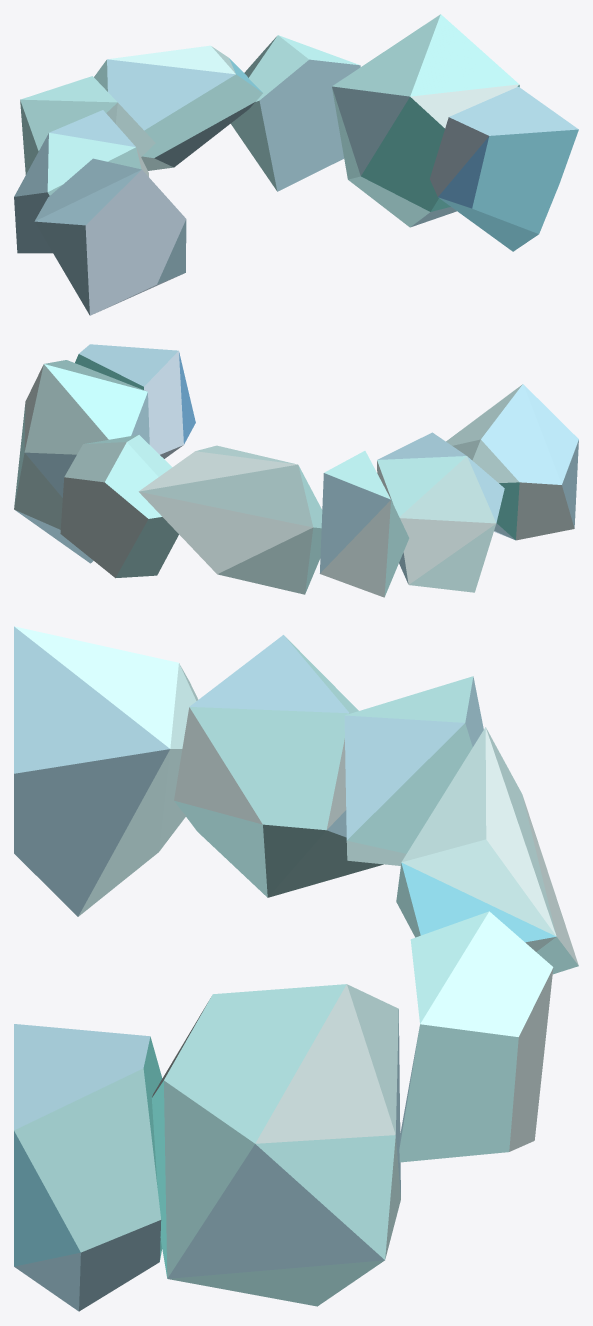
File: winter_gate.fbx
The picture shows the model from 3 angles, top to bottom: view 1: azimuth 30°, elevation 25°; view 2: azimuth 150°, elevation 25°; view 3: azimuth 270°, elevation 25°; orthographic projection. The views are drawn at different scales.
Parts seen in each view (by area): view 1: winter_gate; view 2: winter_gate; view 3: winter_gate.
Boxes of the visible parts, bbox=[...] form: winter_gate: bbox=[14, 14, 578, 315]; winter_gate: bbox=[14, 344, 578, 597]; winter_gate: bbox=[14, 626, 578, 1311].
Size of the model in its own units: 445 by 172 by 237.
